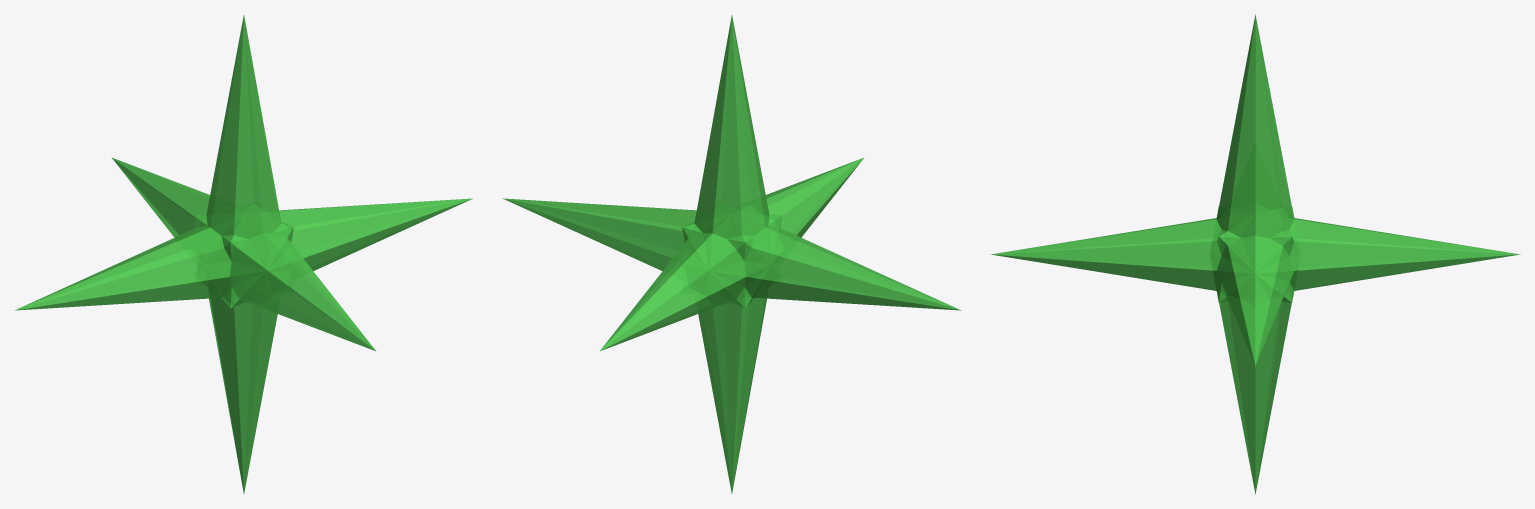
Rendered from TetradyakisHexahedron.obj.
3 renders of one model, left to right at view 1: azimuth 30°, elevation 25°; view 2: azimuth 150°, elevation 25°; view 3: azimuth 270°, elevation 25°, orthographic.
Bounding box in the file's own units: 14.49 × 14.49 × 14.49.
